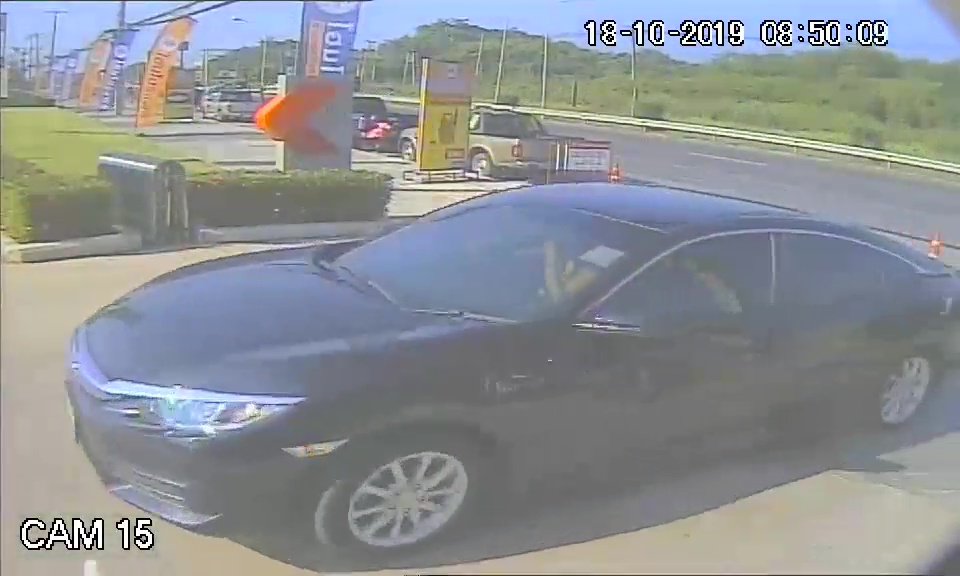sedan: (66, 179, 892, 559)
